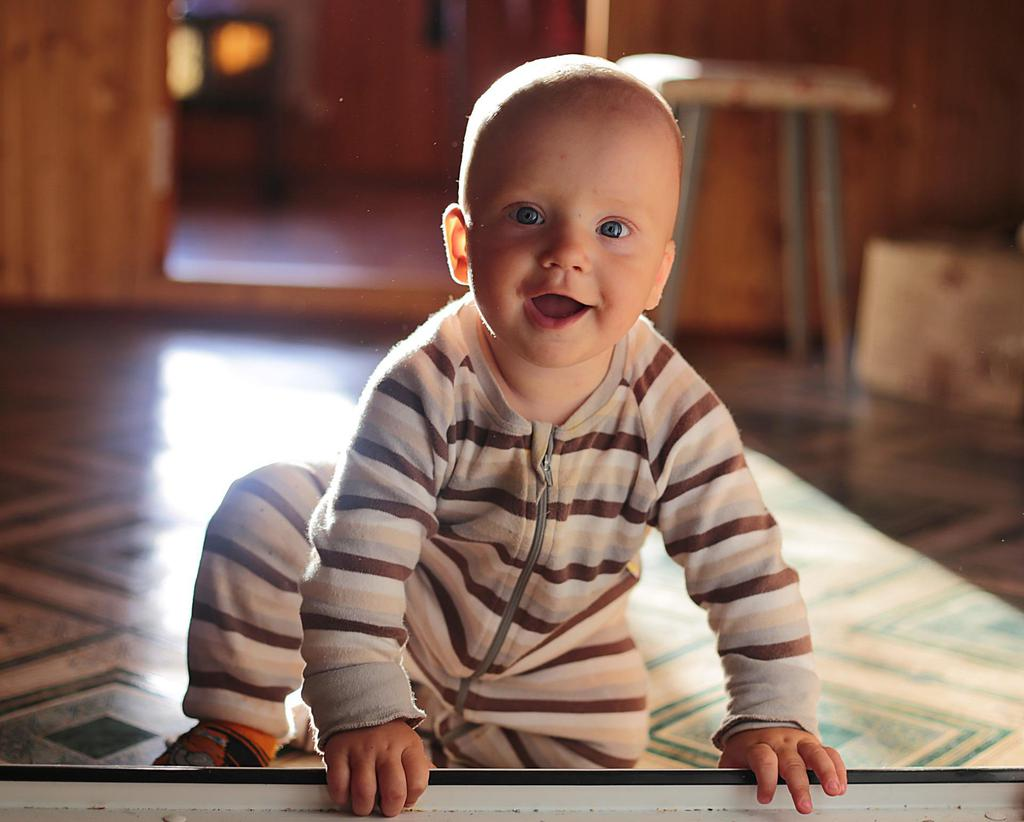child: (105, 28, 902, 822)
